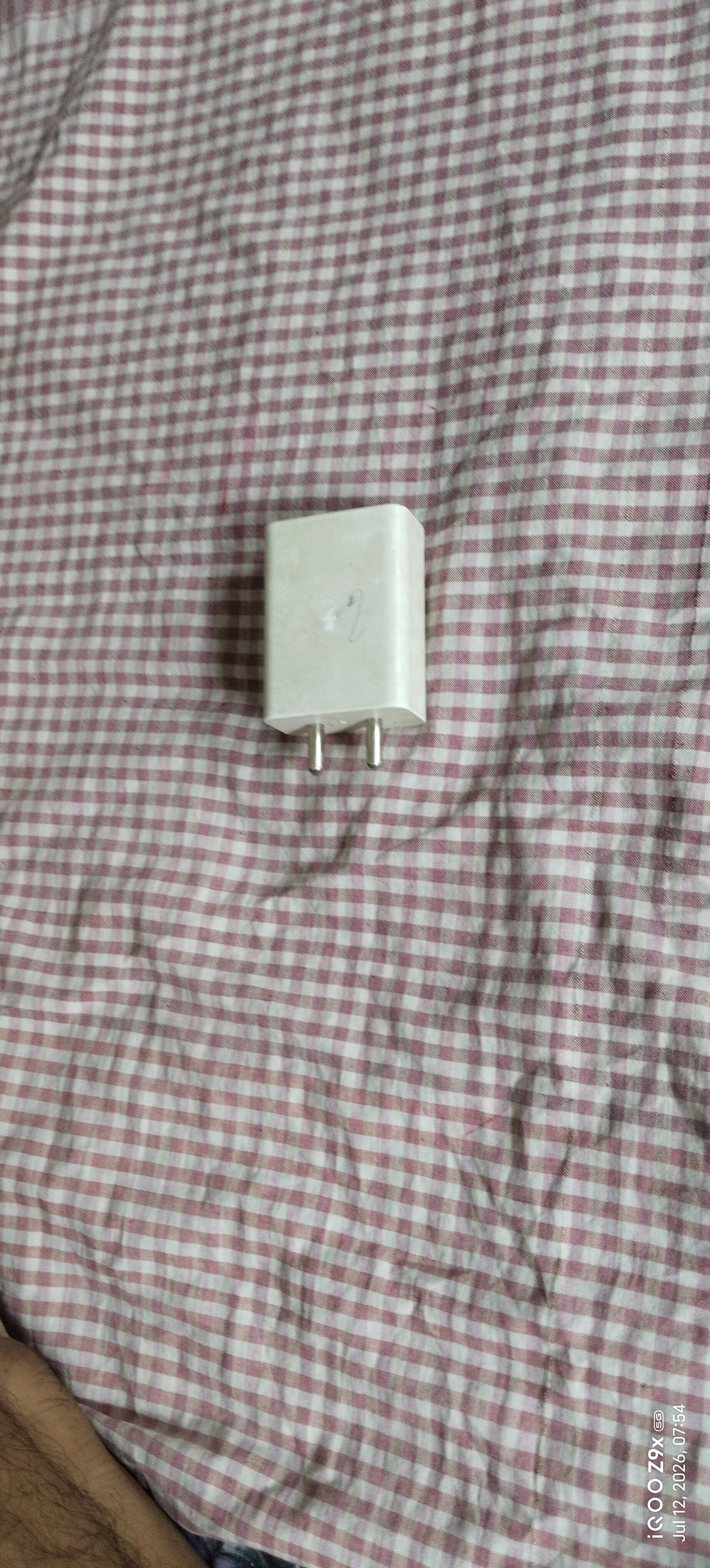charger: (229, 484, 458, 785)
